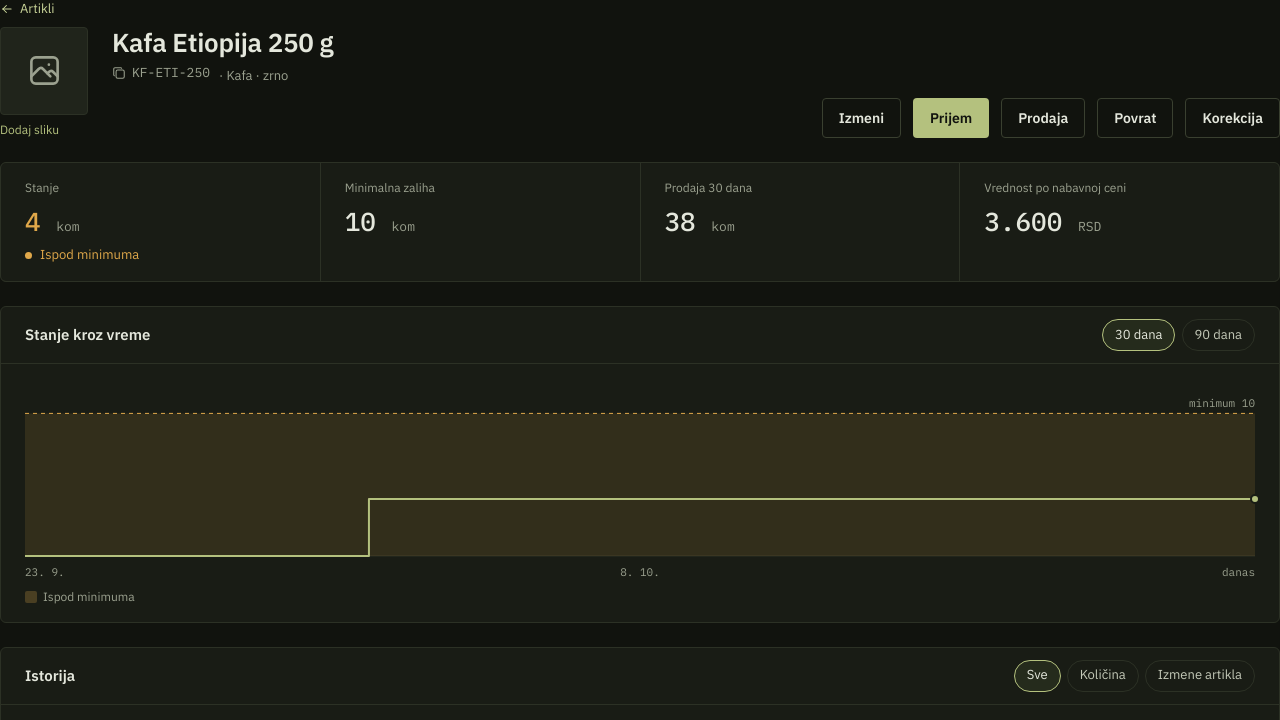
Scenario: ItemDetailPage › ReceiptButton_Clicked_OpensReceiptForm
The image size is (1280, 720).
Click the button "Prijem" at (951, 118), box [913, 98, 989, 138]
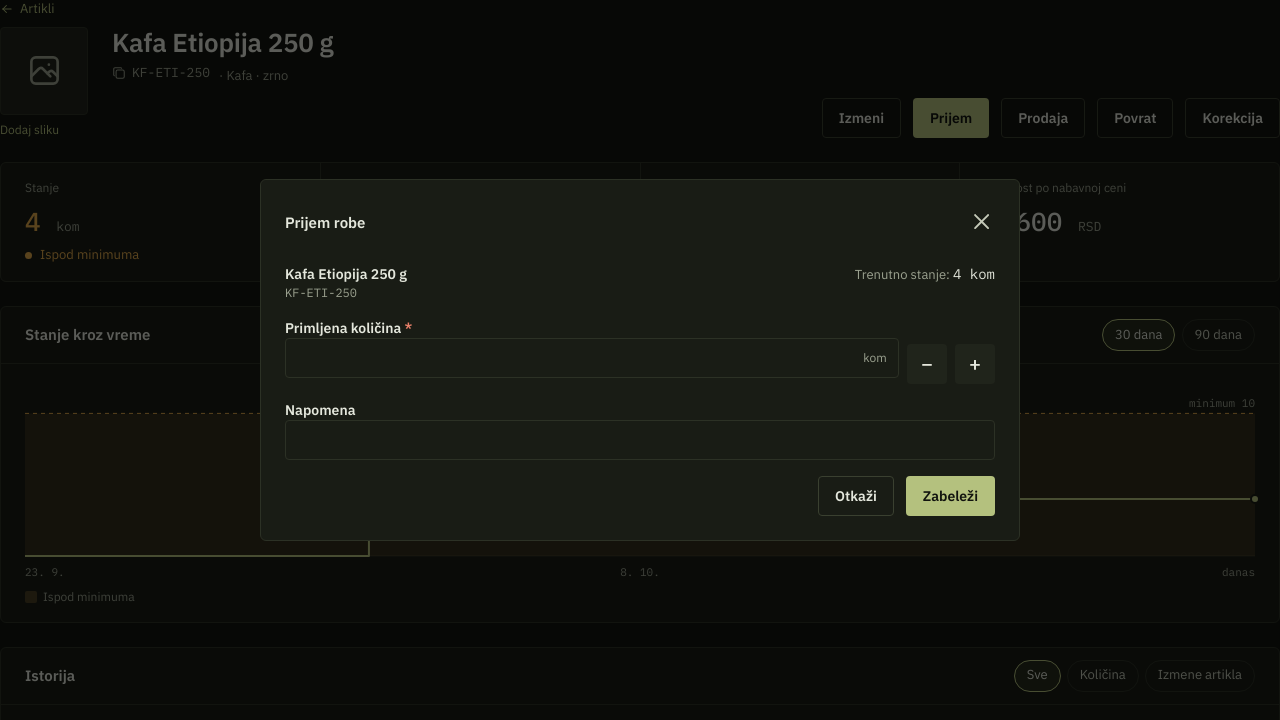
Expected: the heading "Prijem robe" is shown, [285, 214, 366, 230]
Expected: the field labelled "Primljena količina *" is shown, [285, 338, 899, 378]
